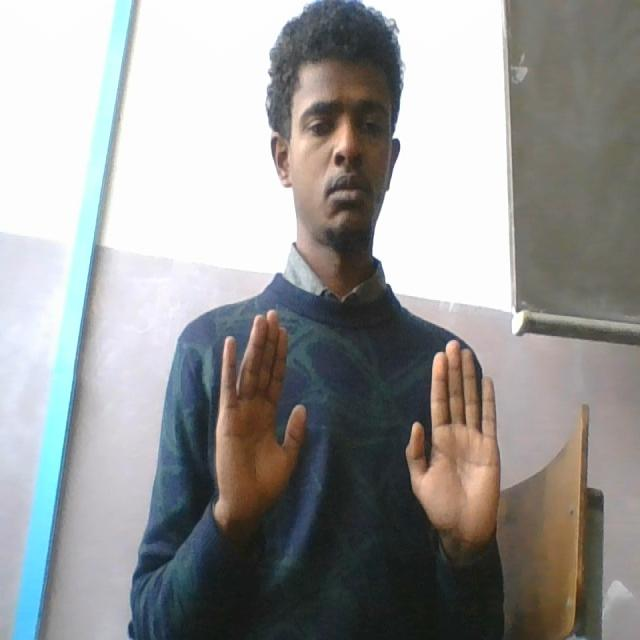megerem: (210, 305, 504, 554)
